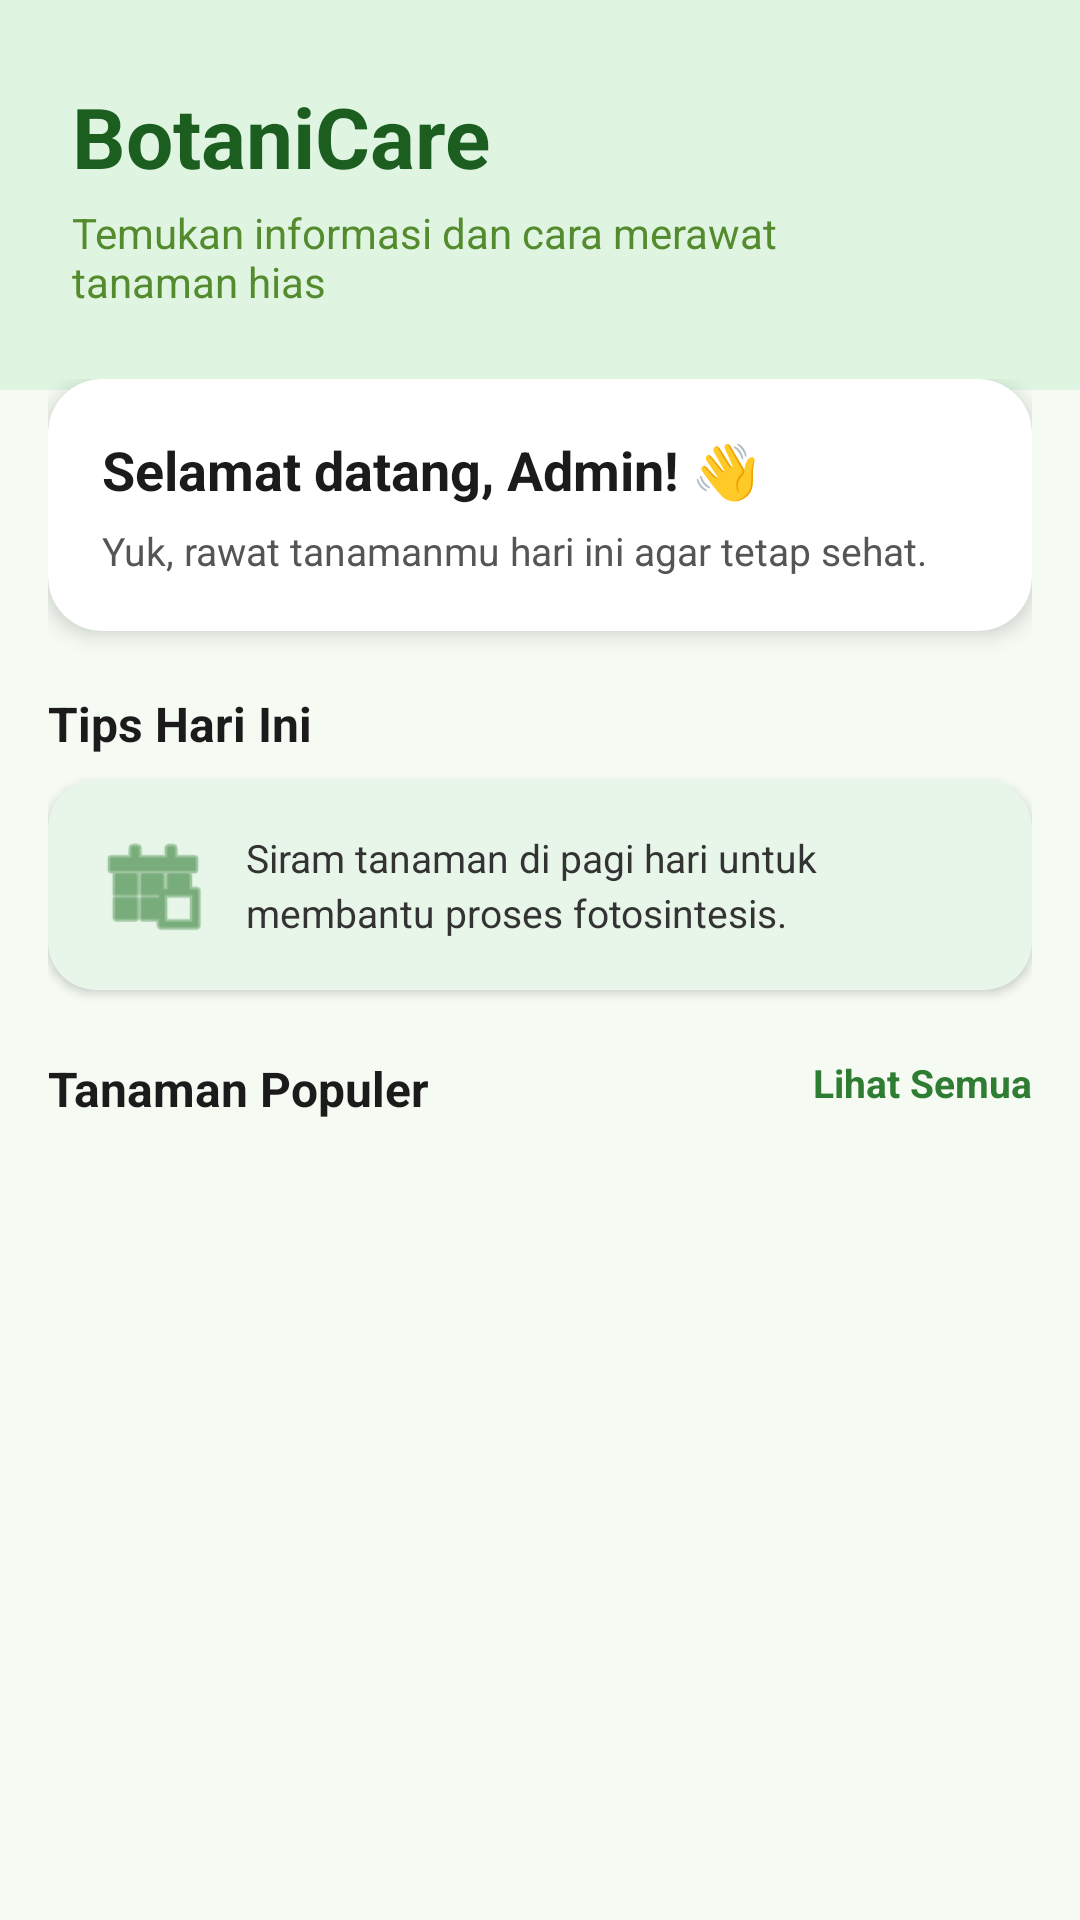

Screen size 1080x1920. Icon name, then its box in pixels as (x1, y1, x2, y2):
today: (108, 843, 201, 930)
